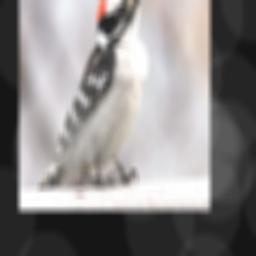Woodpecker: (38, 0, 150, 191)
